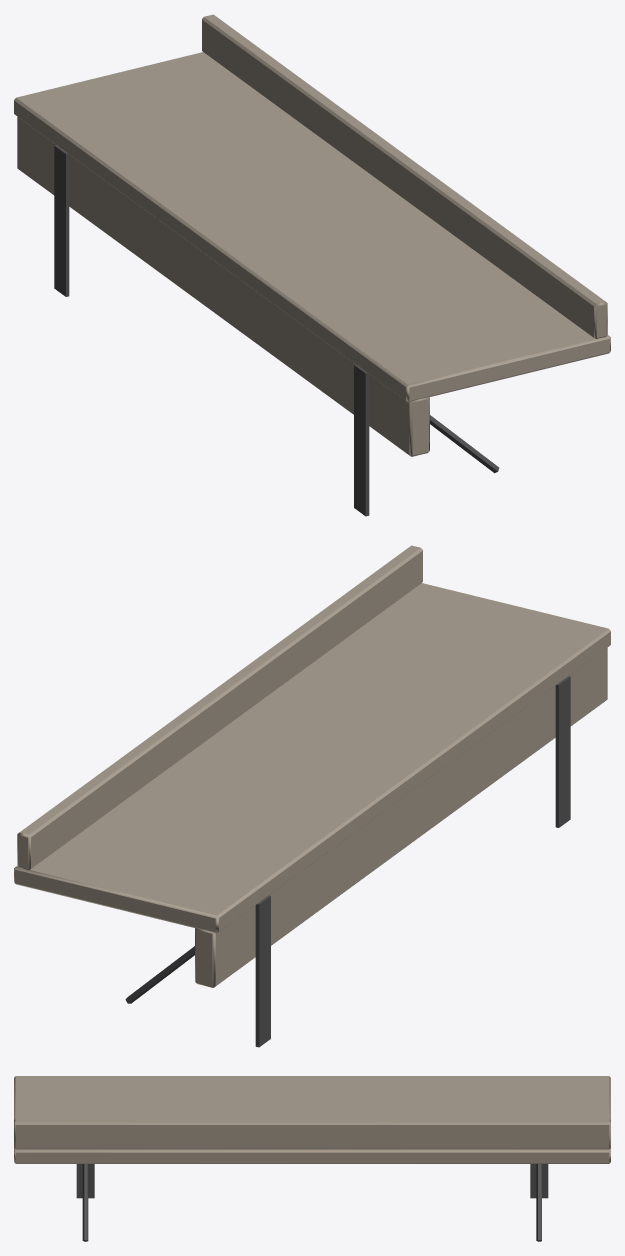
The model's file is stash_rack_2.glb.
3 views of the same model, one above another, from view 1: azimuth 30°, elevation 25°; view 2: azimuth 150°, elevation 25°; view 3: azimuth 270°, elevation 25° (orthographic). The views are drawn at different scales.
Visible parts, largest first — view 1: static; view 2: static; view 3: static.
Part boxes in pixels (x1,y1,x2,y2): static: (14, 14, 610, 516); static: (14, 545, 610, 1047); static: (14, 1076, 610, 1241).
Size of the model in its own units: 0.3 by 0.274 by 1.
